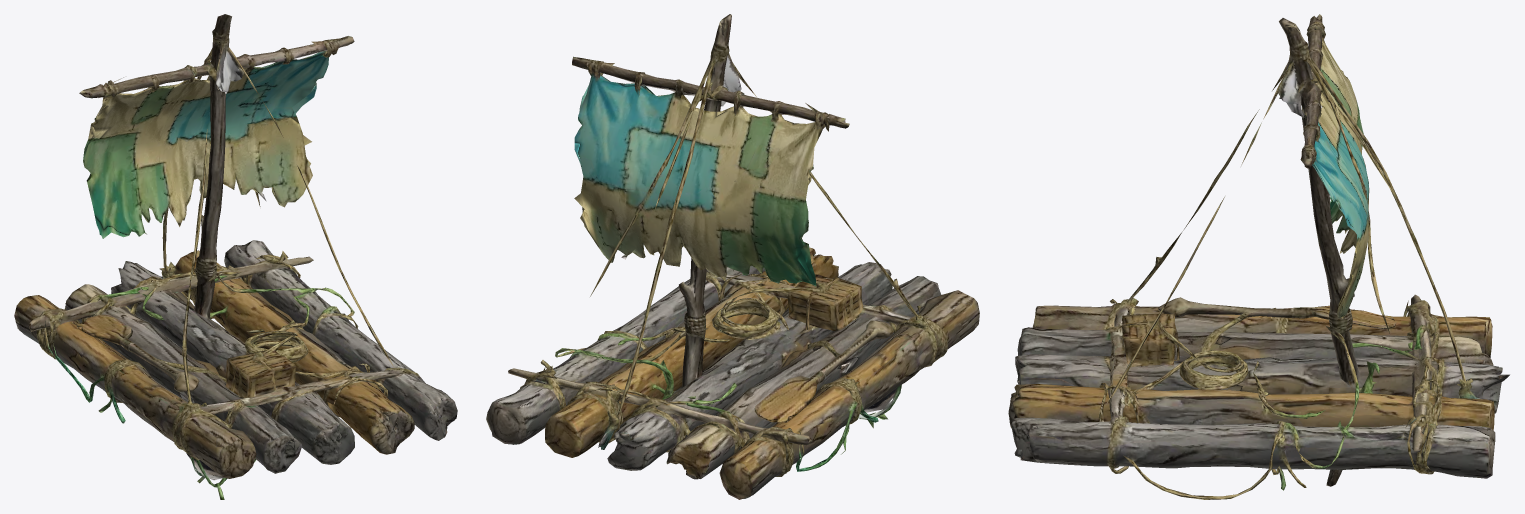
The model's file is sw-raft.glb.
The picture shows the model from 3 angles, left to right: view 1: azimuth 30°, elevation 25°; view 2: azimuth 150°, elevation 25°; view 3: azimuth 270°, elevation 25°; orthographic projection. The views are drawn at different scales.
Visible parts, largest first — view 1: world; view 2: world; view 3: world.
Part boxes in pixels (bbox=[...]): world: bbox=[14, 14, 457, 499]; world: bbox=[486, 14, 979, 499]; world: bbox=[1008, 14, 1509, 499].
Bounding box in the file's own units: 0.5822 × 0.8294 × 0.8187.
Materials: 1 (1 with a texture image).
